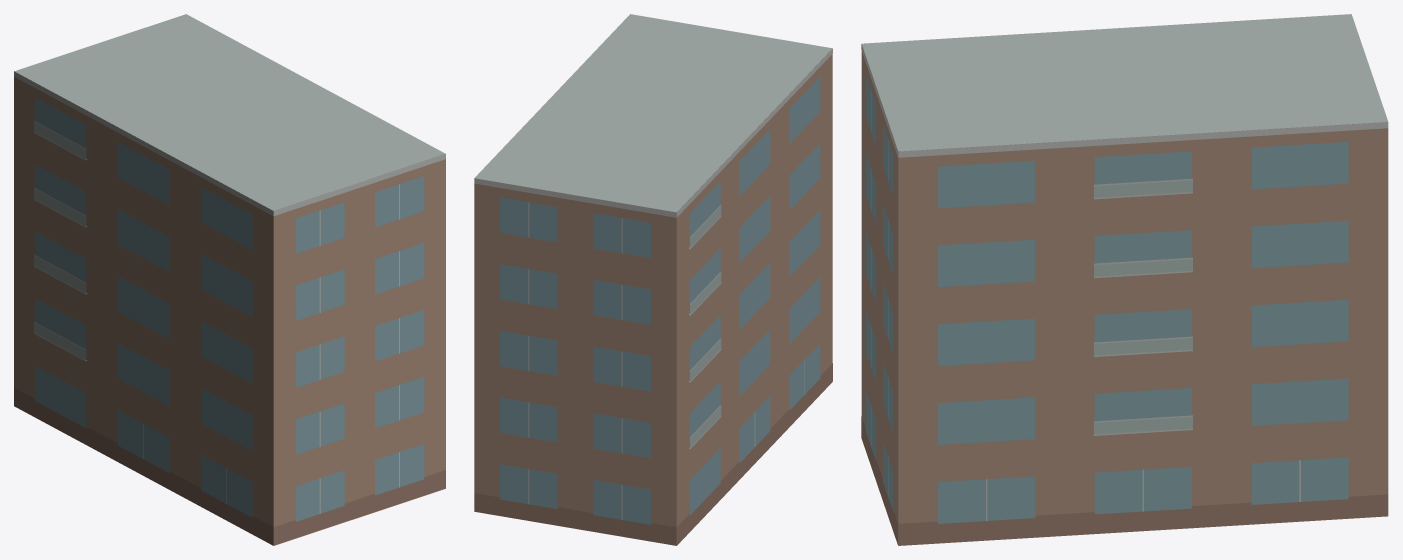
The model's file is survey-upis-32607906.glb.
3 renders of one model, left to right at view 1: azimuth 30°, elevation 25°; view 2: azimuth 150°, elevation 25°; view 3: azimuth 270°, elevation 25°, orthographic. The views are drawn at different scales.
Visible parts, largest first — view 1: survey-upis-32607906.tmp; view 2: survey-upis-32607906.tmp; view 3: survey-upis-32607906.tmp.
Part boxes in pixels (x1,y1,x2,y2): survey-upis-32607906.tmp: (14,14,445,545); survey-upis-32607906.tmp: (474,14,832,545); survey-upis-32607906.tmp: (861,14,1388,545).
Bounding box in the file's own units: 11.41 × 15.25 × 18.48.
